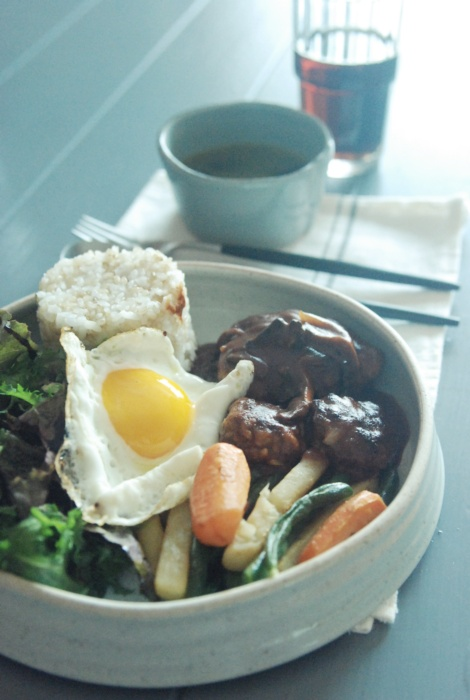chopped lettuce: (9, 366, 74, 573)
fried egg: (60, 345, 212, 494)
meatballs: (239, 328, 398, 465)
plain rice: (32, 253, 184, 330)
